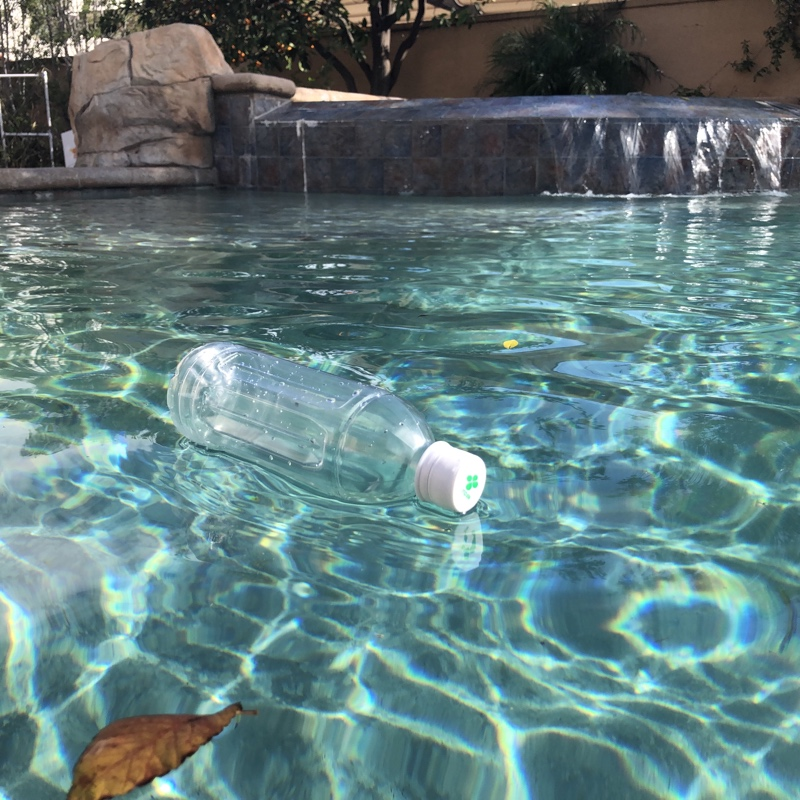Plastic Bottle: (161, 336, 489, 518)
